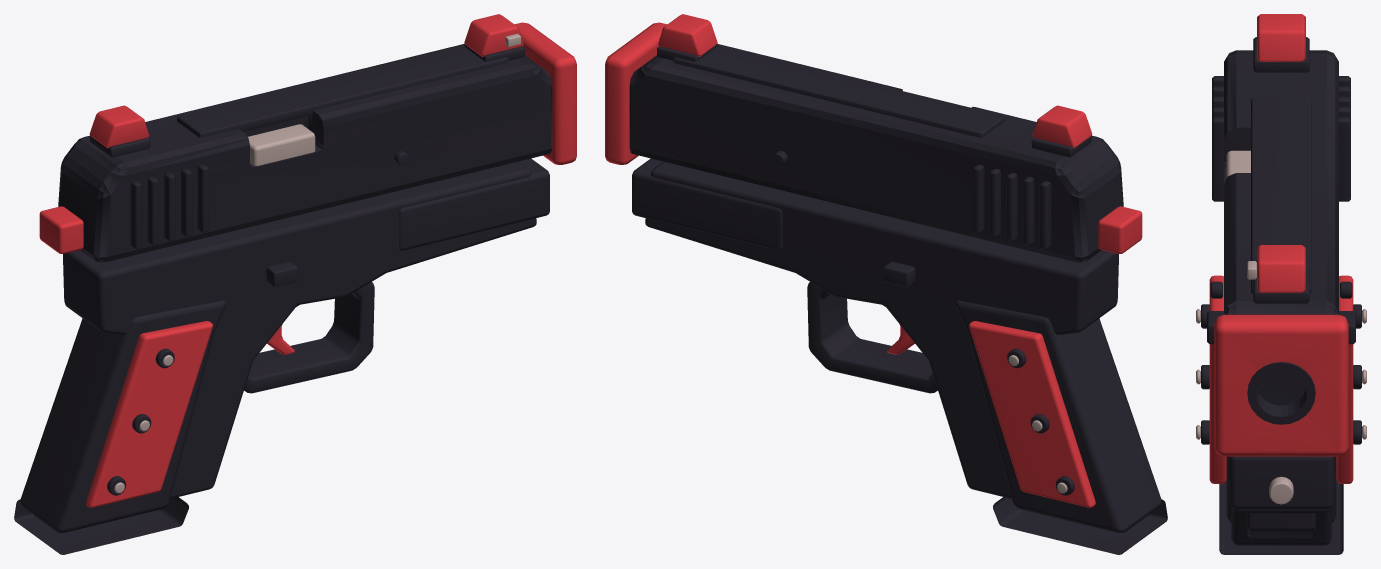
3 views of the same model, side by side, from view 1: azimuth 30°, elevation 25°; view 2: azimuth 150°, elevation 25°; view 3: azimuth 270°, elevation 25° (orthographic). The views are drawn at different scales.
Visible parts, largest first — view 1: body, slide, body_pal_survivorRed, slide_pal_survivorRed, magazine, slide_pal_sidewalk; view 2: body, slide, body_pal_survivorRed, slide_pal_survivorRed, magazine; view 3: slide, slide_pal_survivorRed, body, body_pal_survivorRed, magazine, body_pal_sidewalk, slide_pal_sidewalk.
Boxes of the visible parts, <box> form: body: <box>20,158,549,532</box>; slide: <box>58,43,552,262</box>; body_pal_survivorRed: <box>39,206,212,507</box>; slide_pal_survivorRed: <box>89,14,576,164</box>; magazine: <box>14,497,188,554</box>; slide_pal_sidewalk: <box>248,33,521,165</box>; body: <box>632,158,1161,532</box>; slide: <box>629,43,1123,262</box>; body_pal_survivorRed: <box>969,206,1142,507</box>; slide_pal_survivorRed: <box>605,14,1092,164</box>; magazine: <box>993,497,1167,554</box>; slide: <box>1210,37,1352,424</box>; slide_pal_survivorRed: <box>1214,14,1348,456</box>; body: <box>1201,304,1361,545</box>; body_pal_survivorRed: <box>1209,275,1353,483</box>; magazine: <box>1219,480,1343,554</box>; body_pal_sidewalk: <box>1196,309,1366,504</box>; slide_pal_sidewalk: <box>1226,150,1256,279</box>.
Bounding box in the file's own units: 0.3097 × 0.231 × 0.07.
